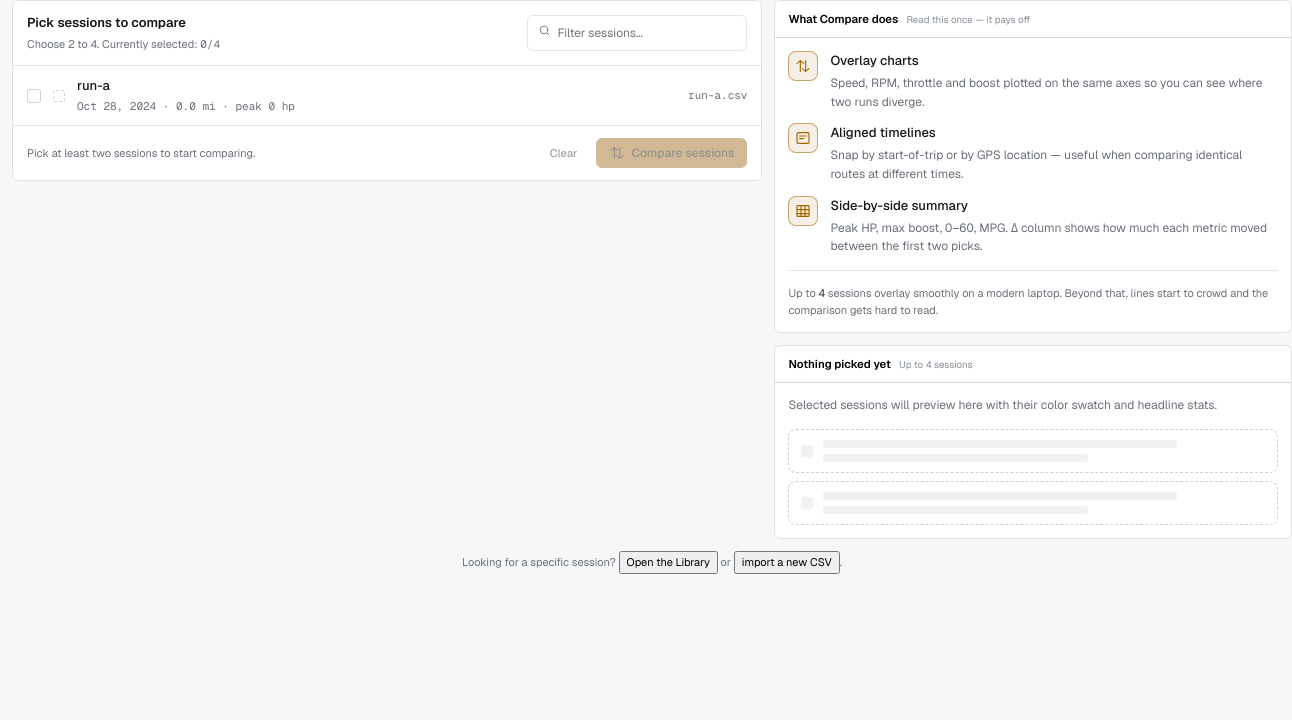
Test: pages/compare-logs/pick-stage › clicking a row toggles it into the picked set
The width and height of the screenshot is (1292, 720).
Click the button with test id "picker-row-s_1": {"x": 93, "y": 86} [13, 66, 761, 125]
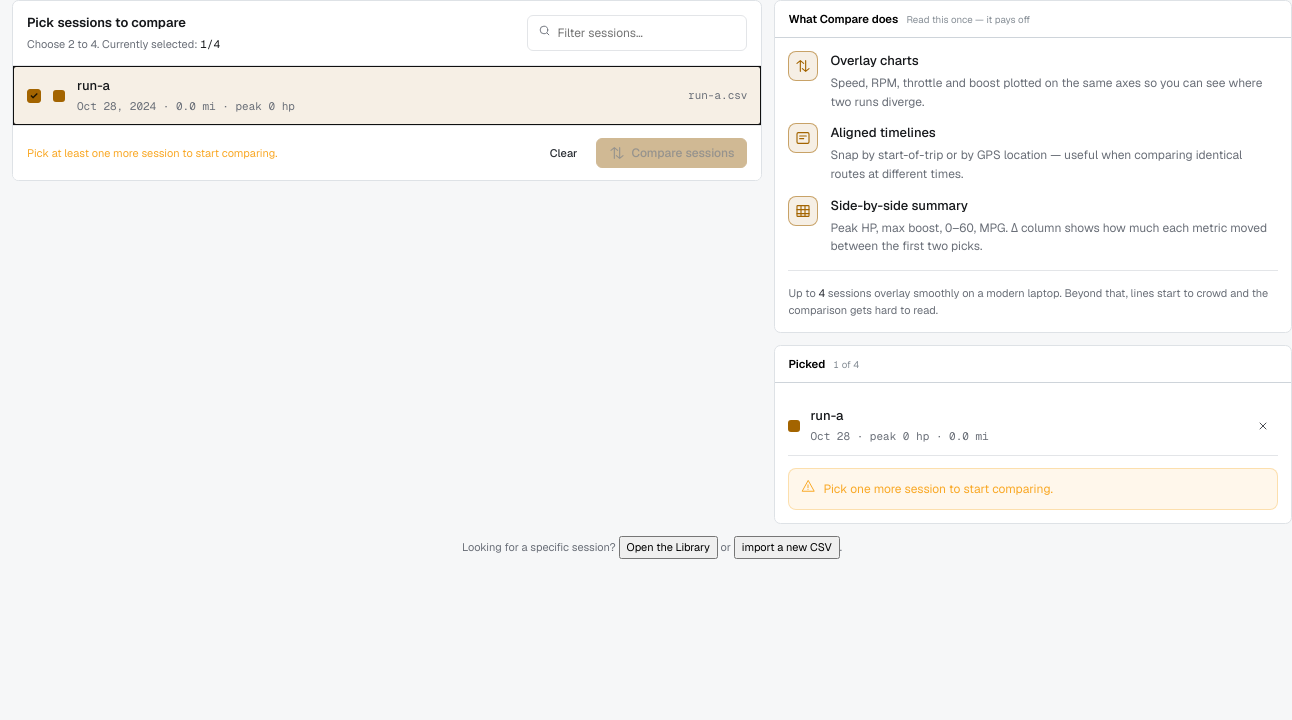
Now the text with test id "picker-counter" reads "1/4", box [200, 37, 220, 51]
